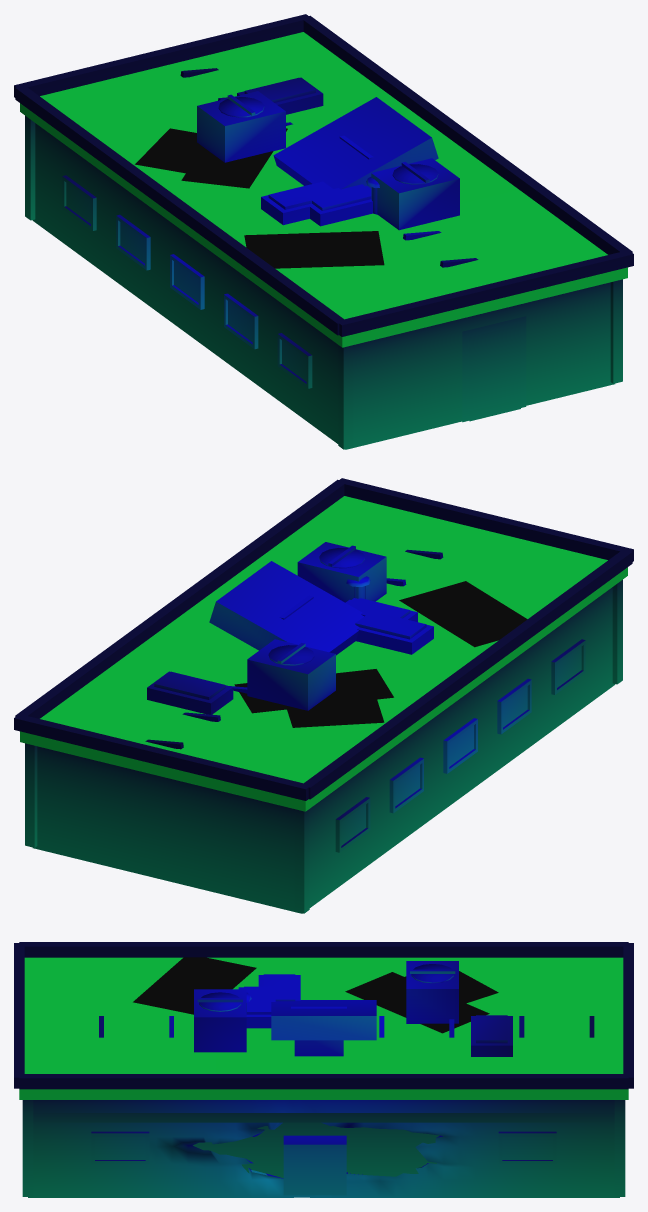
Rendered from barracks_damaged.glb.
3 views of the same model, one above another, from view 1: azimuth 30°, elevation 25°; view 2: azimuth 150°, elevation 25°; view 3: azimuth 270°, elevation 25° (orthographic). The views are drawn at different scales.
Parts seen in each view (by area): view 1: lod0; view 2: lod0; view 3: lod0.
Part boxes in pixels (x1,y1,x2,y2): lod0: (14,14,633,449); lod0: (14,478,633,913); lod0: (14,942,633,1197).
Size of what is drawn, in the model's own units: 9.5 by 4.93 by 17.7.
